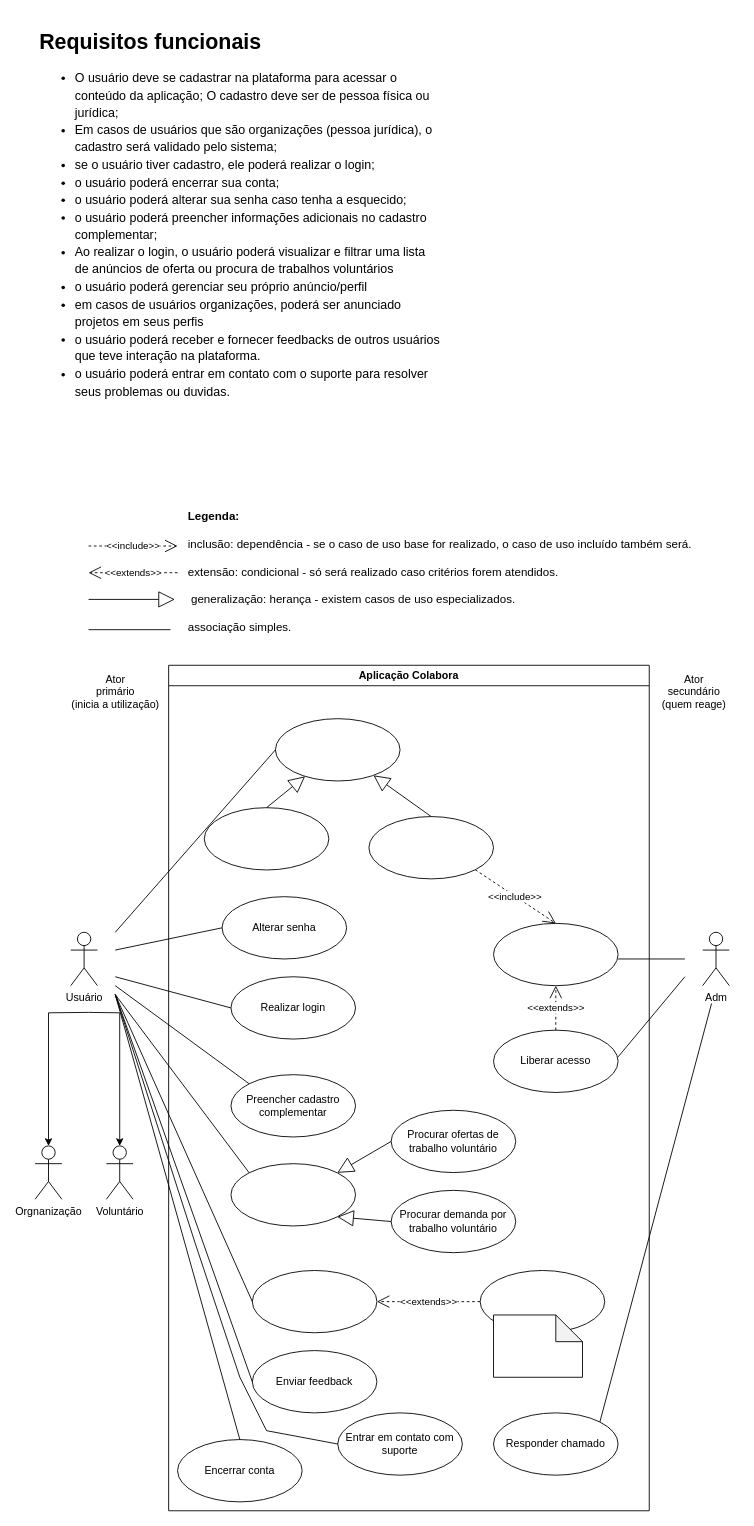
Some shapes in this 754 by 1526 pixel diagram are drawn without their labels. The shapes that lost their labels are listed below. From the top down, each one's centre as x and y in pixels, then its label:
point 337,749: Cadastrar usuário
point 266,838: Criar perfil de pessoa física
point 431,847: Criar perfil de pessoa jurídica
point 555,954: Verificar perfil
point 293,1194: Visualizar e filtrar lista de anúncio
point 314,1301: Gerenciar perfil
point 542,1301: Anunciar projetos
point 538,1345: caso for organização
